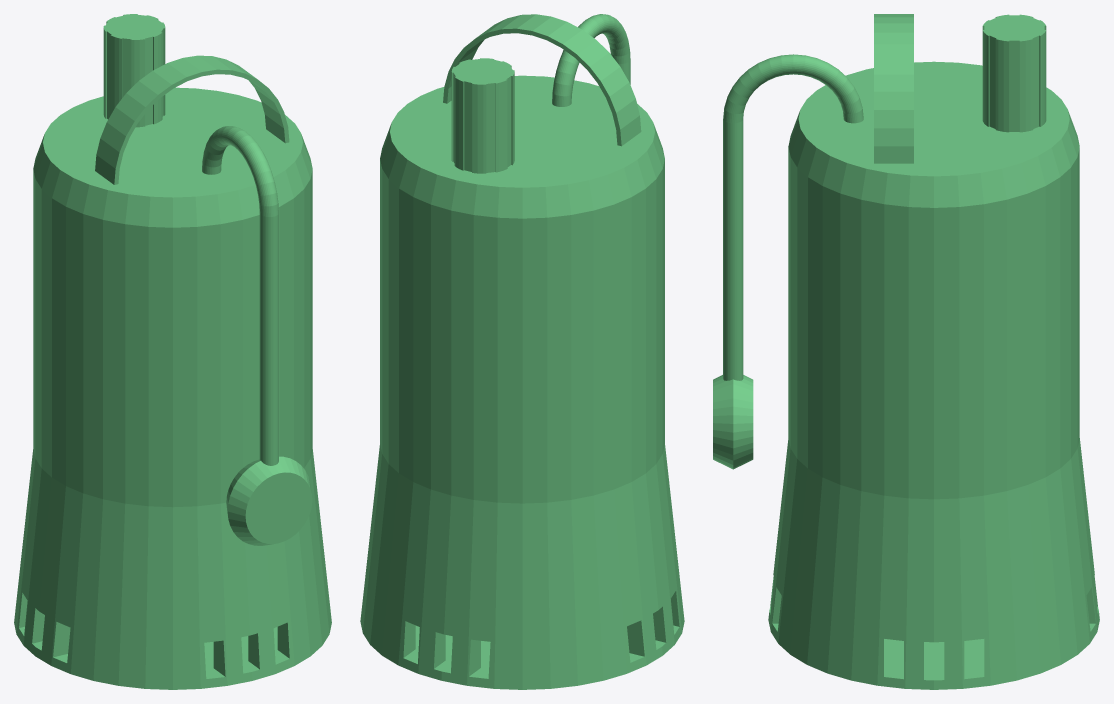
Rendered from patent1.glb.
3 views of the same model, side by side, from view 1: azimuth 30°, elevation 25°; view 2: azimuth 150°, elevation 25°; view 3: azimuth 270°, elevation 25° (orthographic). The views are drawn at different scales.
Parts seen in each view (by area): view 1: mesh::ОБ-0001::3EV4QQ7QzA9uerM1hYeLVa; view 2: mesh::ОБ-0001::3EV4QQ7QzA9uerM1hYeLVa; view 3: mesh::ОБ-0001::3EV4QQ7QzA9uerM1hYeLVa.
Part boxes in pixels (x1,y1,x2,y2): mesh::ОБ-0001::3EV4QQ7QzA9uerM1hYeLVa: [14, 14, 331, 689]; mesh::ОБ-0001::3EV4QQ7QzA9uerM1hYeLVa: [360, 14, 684, 689]; mesh::ОБ-0001::3EV4QQ7QzA9uerM1hYeLVa: [713, 14, 1099, 689].
Size of the model in its own units: 0.165 by 0.3275 by 0.1925.
